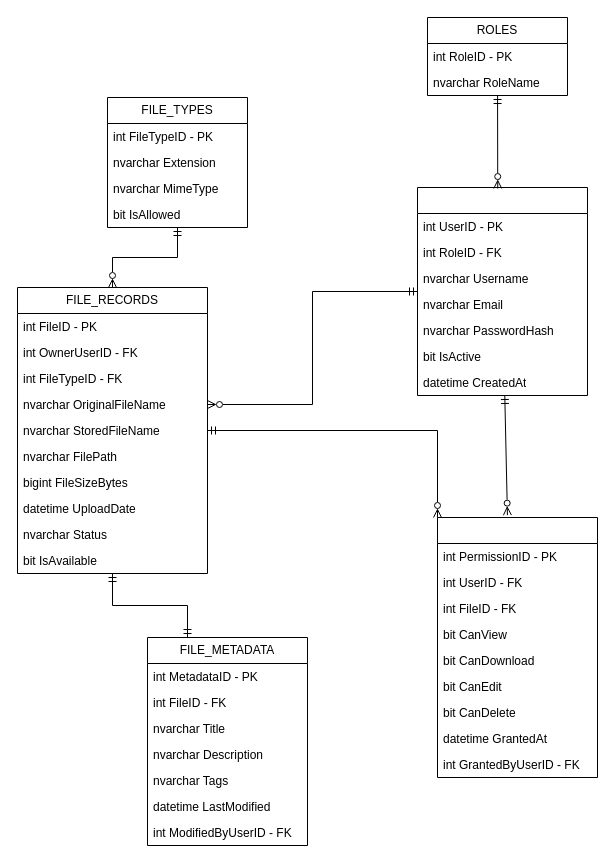
Some shapes in this 615 by 866 pixel diagram are drawn without their labels. Each missing label, with the box of its shape:
PERMISSIONS: (436, 516, 598, 778)
Users: (416, 186, 588, 396)
